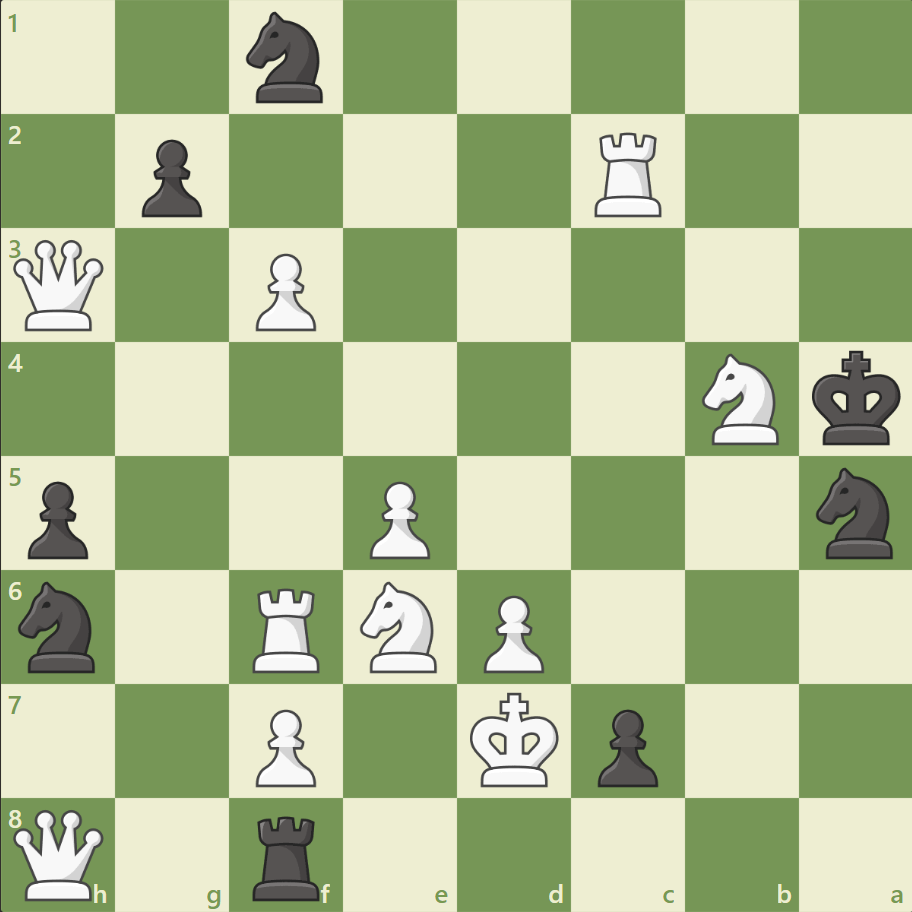K: (465, 685, 565, 793)
N: (351, 575, 449, 677), (692, 348, 789, 450)
P: (247, 700, 322, 791), (474, 586, 549, 677), (247, 246, 322, 337), (361, 473, 435, 564)
Q: (10, 804, 109, 903), (10, 236, 109, 335)
R: (246, 579, 329, 676), (587, 125, 670, 222)
k: (806, 344, 906, 452)
n: (806, 461, 903, 564), (238, 7, 335, 110), (11, 575, 108, 677)
p: (20, 473, 95, 564), (133, 132, 208, 223), (588, 700, 662, 791)
r: (246, 806, 329, 904)
